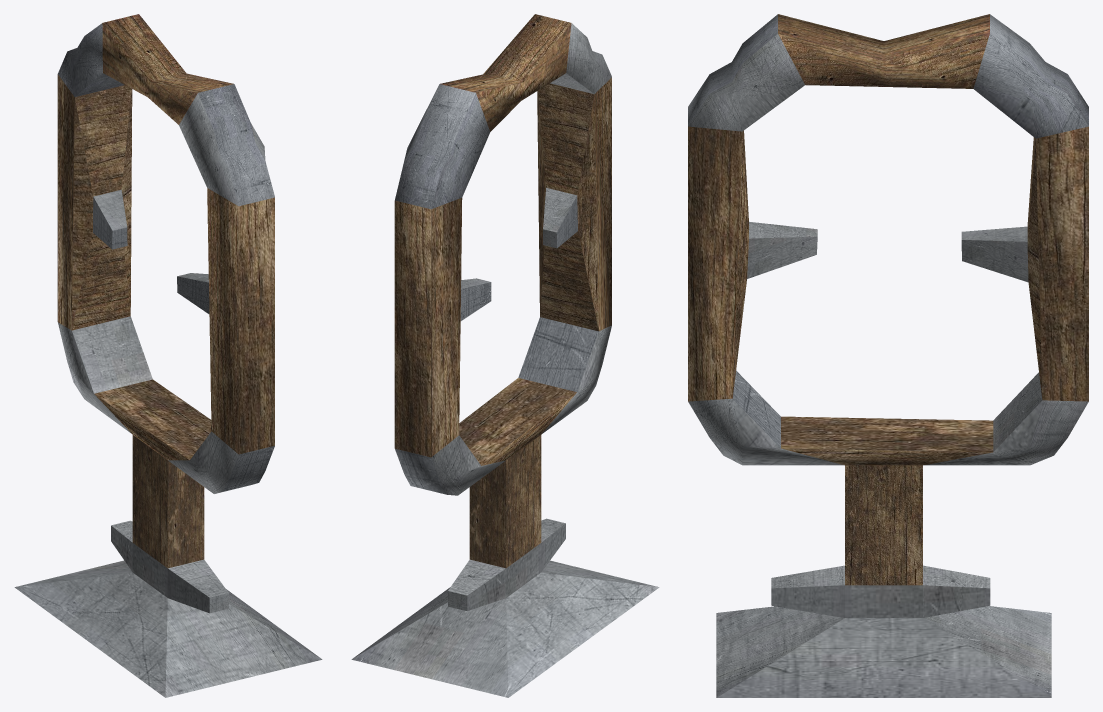
Rendered from Pedistal.obj.
The picture shows the model from 3 angles, left to right: view 1: azimuth 30°, elevation 25°; view 2: azimuth 150°, elevation 25°; view 3: azimuth 270°, elevation 25°; orthographic projection. The views are drawn at different scales.
Visible parts, largest first — view 1: MaskPidestal_Cube.001; view 2: MaskPidestal_Cube.001; view 3: MaskPidestal_Cube.001.
Boxes of the visible parts, x1,y1,x2,y2 form: MaskPidestal_Cube.001: (14, 14, 322, 697); MaskPidestal_Cube.001: (351, 14, 659, 697); MaskPidestal_Cube.001: (688, 14, 1088, 697).
Bounding box in the file's own units: 1.13 × 3.91 × 2.25.
